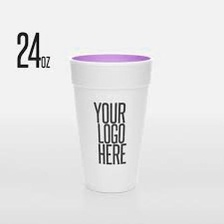paper_cup: (65, 47, 156, 196)
